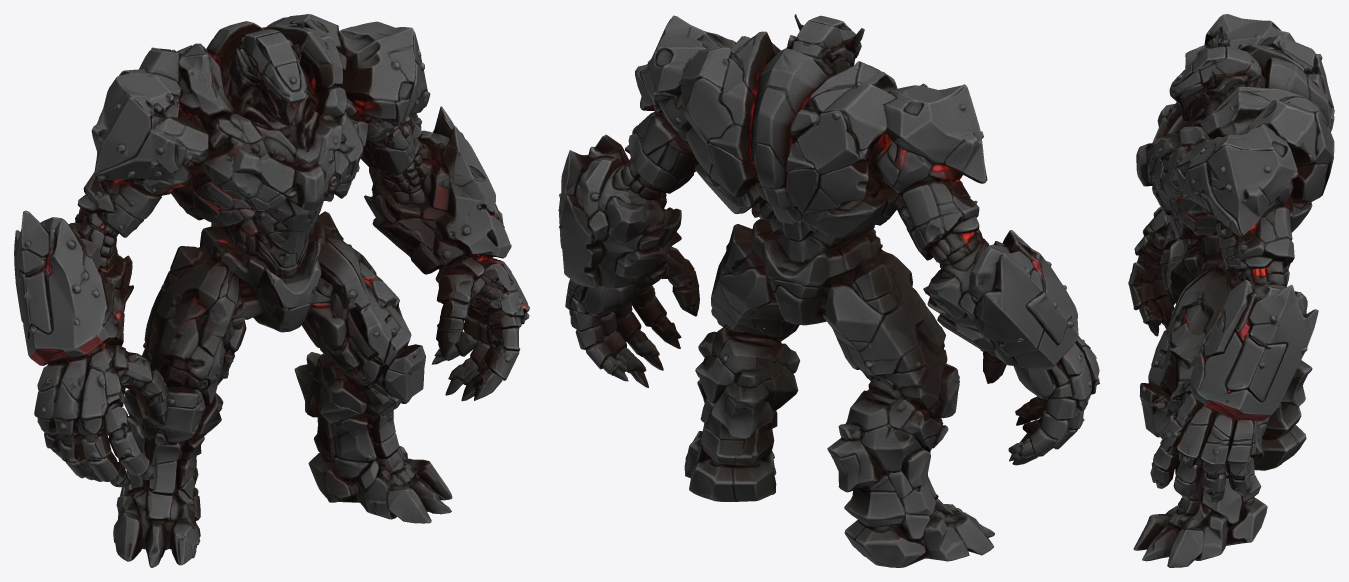
Rendered from volcanic_obsidian_golem_creature.glb.
3 renders of one model, left to right at view 1: azimuth 30°, elevation 25°; view 2: azimuth 150°, elevation 25°; view 3: azimuth 270°, elevation 25°, orthographic. The views are drawn at different scales.
Visible parts, largest first — view 1: volcanic_obsidian_golem_creature; view 2: volcanic_obsidian_golem_creature; view 3: volcanic_obsidian_golem_creature.
Boxes of the visible parts, x1=… form: volcanic_obsidian_golem_creature: x1=14, y1=14, x2=529, y2=567; volcanic_obsidian_golem_creature: x1=558, y1=14, x2=1099, y2=567; volcanic_obsidian_golem_creature: x1=1128, y1=14, x2=1334, y2=567.
Bounding box in the file's own units: 5.86 × 5.5 × 2.29.
1 material, 1 textured.
